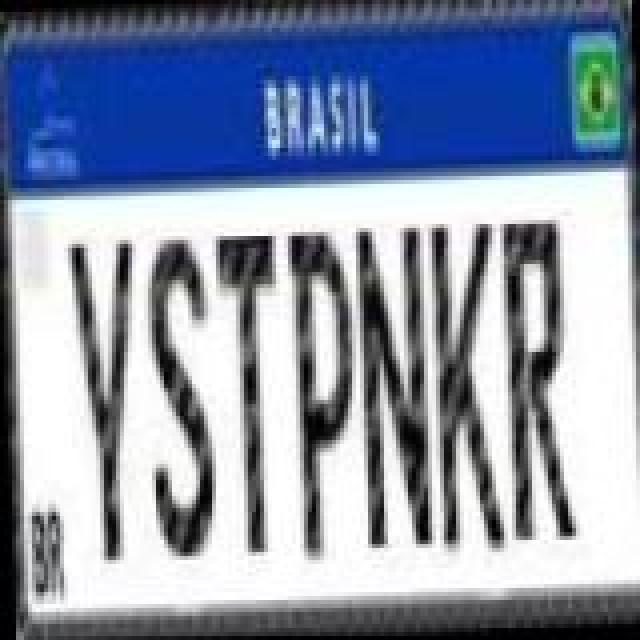K: (426, 220, 502, 560)
N: (354, 222, 430, 550)
P: (282, 226, 358, 566)
R: (498, 214, 574, 542)
S: (142, 230, 218, 558)
T: (212, 230, 284, 554)
Y: (64, 234, 144, 562)
